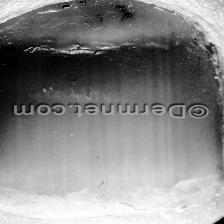Toxin: (0, 0, 224, 62), (0, 170, 224, 224)
